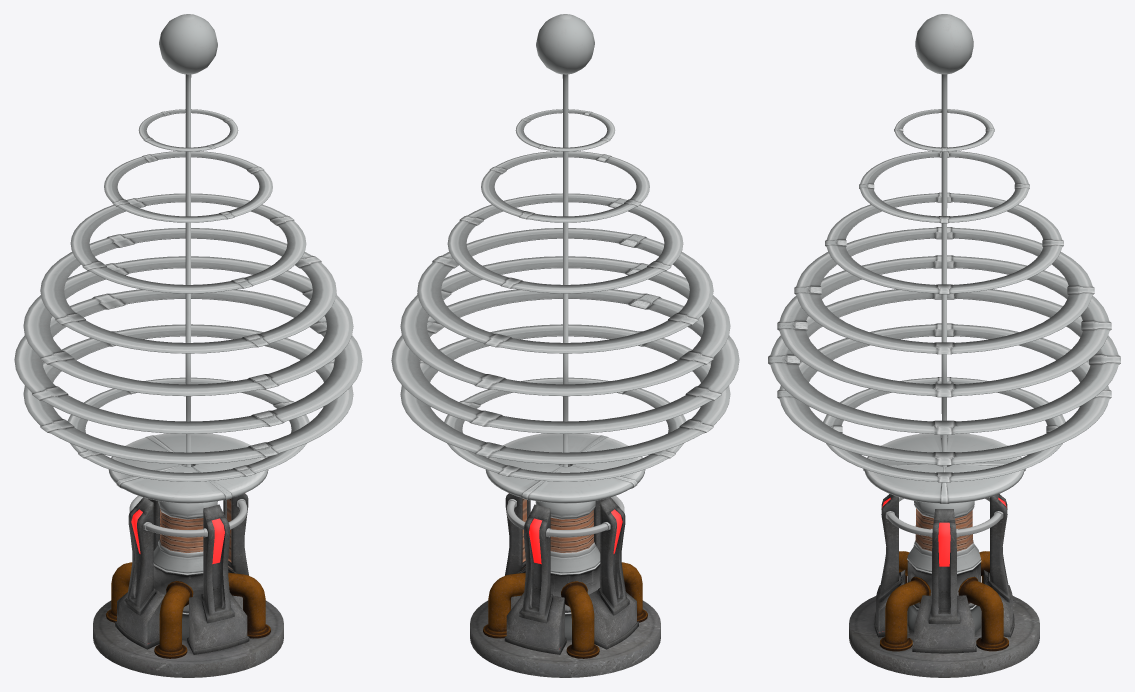
Rendered from TeslaColiBig.fbx.
The picture shows the model from 3 angles, left to right: view 1: azimuth 30°, elevation 25°; view 2: azimuth 150°, elevation 25°; view 3: azimuth 270°, elevation 25°; orthographic projection.
Visible parts, largest first — view 1: TeslaColiForDancer; view 2: TeslaColiForDancer; view 3: TeslaColiForDancer.
Boxes of the visible parts, x1=… form: TeslaColiForDancer: x1=14, y1=14, x2=362, y2=677; TeslaColiForDancer: x1=391, y1=14, x2=739, y2=677; TeslaColiForDancer: x1=768, y1=14, x2=1120, y2=677.
Bounding box in the file's own units: 689 × 1338 × 689.
